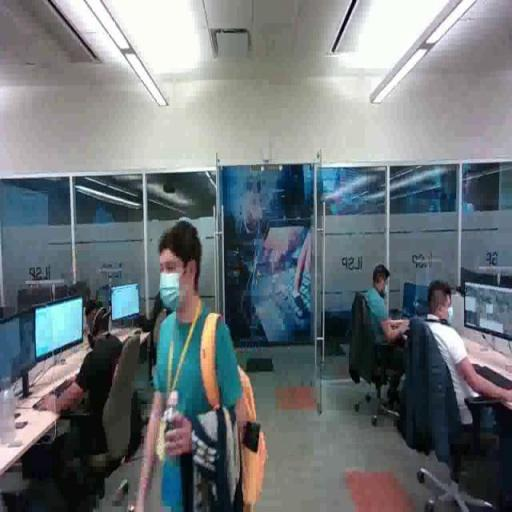person: (137, 210, 240, 512)
